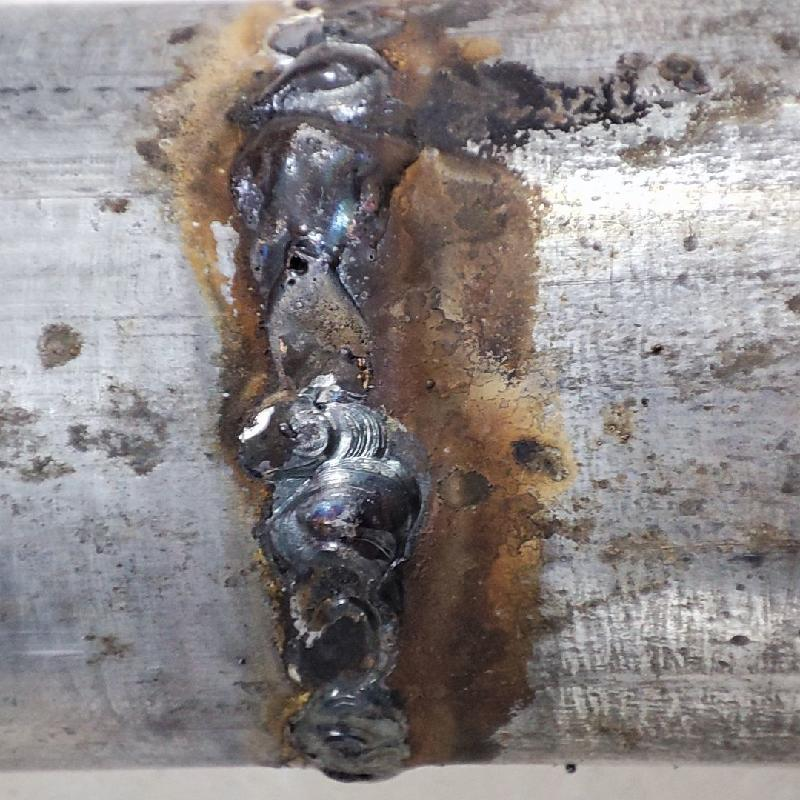Surface_pores: (273, 234, 328, 303)
Weld: (223, 52, 423, 260)
wrong_size: (253, 467, 430, 783)
